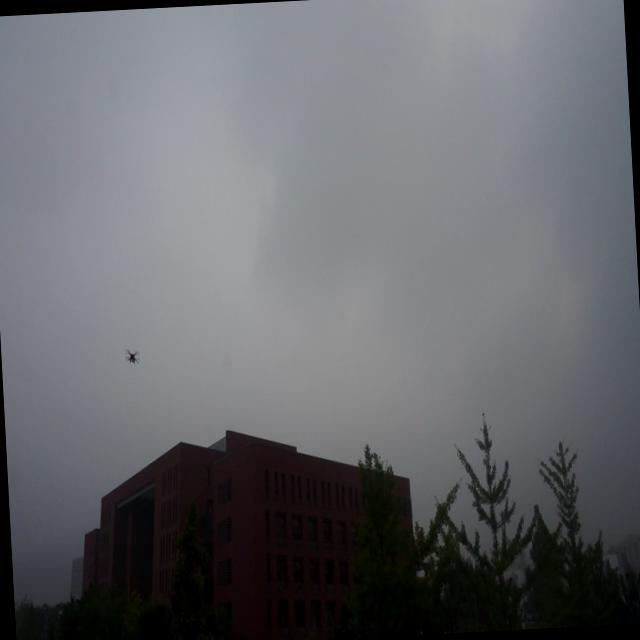drone: (123, 346, 142, 368)
